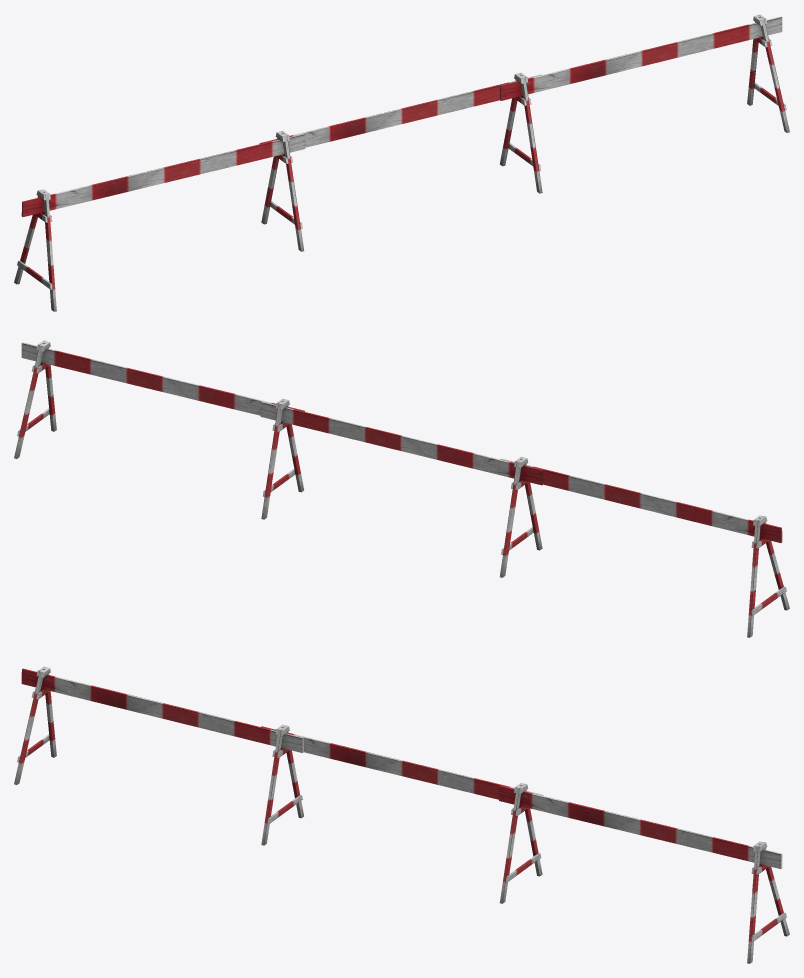
Rendered from barrier_8m.glb.
3 views of the same model, one above another, from view 1: azimuth 30°, elevation 25°; view 2: azimuth 150°, elevation 25°; view 3: azimuth 330°, elevation 25° (orthographic).
Parts seen in each view (by area): view 1: Barieraka_Drewno_8m_0; view 2: Barieraka_Drewno_8m_0; view 3: Barieraka_Drewno_8m_0.
Boxes of the visible parts, box(x1,y1,x2,y2) form: Barieraka_Drewno_8m_0: box(14, 14, 789, 311); Barieraka_Drewno_8m_0: box(14, 340, 789, 637); Barieraka_Drewno_8m_0: box(14, 666, 789, 963).
Size of the model in its own units: 8.09 by 1.05 by 0.74.
1 material, 1 textured.
